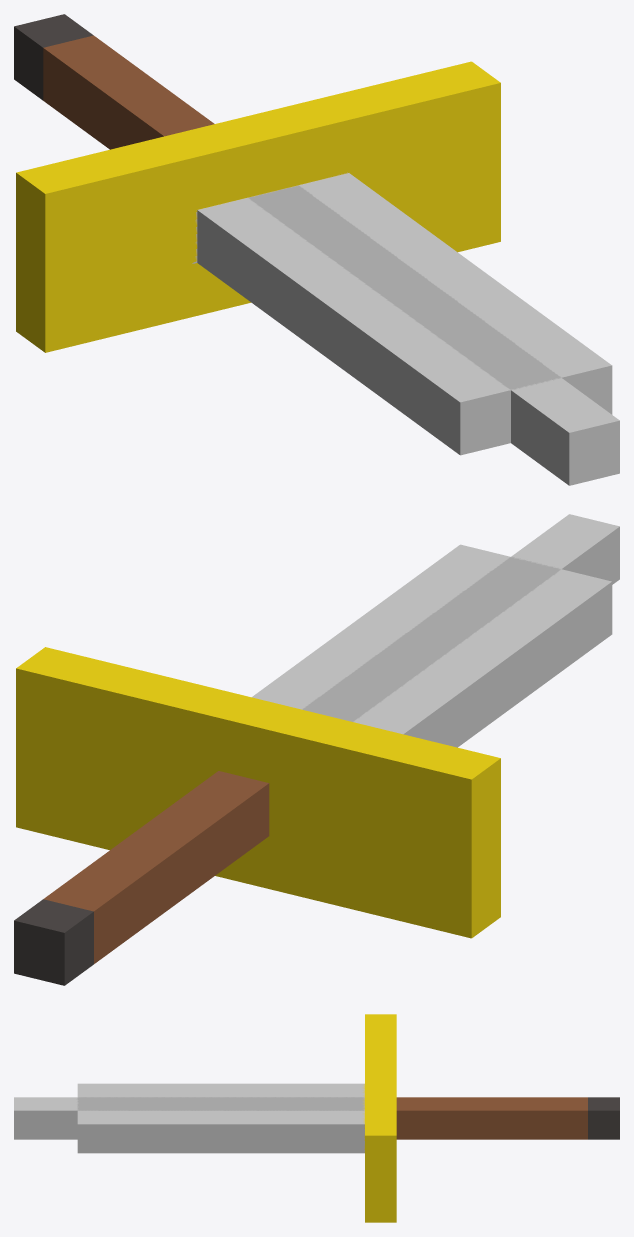
The model's file is PixelBlade.fbx.
The picture shows the model from 3 angles, top to bottom: view 1: azimuth 30°, elevation 25°; view 2: azimuth 150°, elevation 25°; view 3: azimuth 270°, elevation 25°; orthographic projection. The views are drawn at different scales.
Visible parts, largest first — view 1: Cube; view 2: Cube; view 3: Cube.
Part boxes in pixels (bbox=[...]): Cube: bbox=[14, 14, 619, 485]; Cube: bbox=[14, 514, 619, 985]; Cube: bbox=[14, 1014, 619, 1222].
Bounding box in the file's own units: 1800 × 600 × 3800.
Materials: 1 (1 with a texture image).
